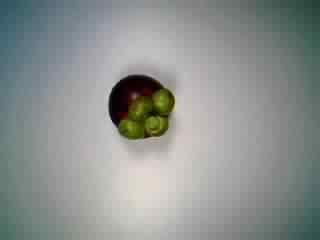mangosteen: (94, 70, 177, 145)
